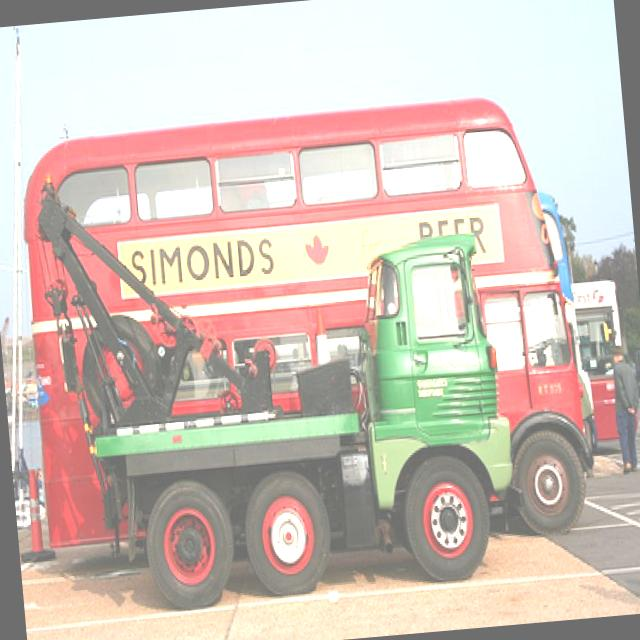Vehicle: (11, 92, 596, 586), (29, 133, 532, 619)
